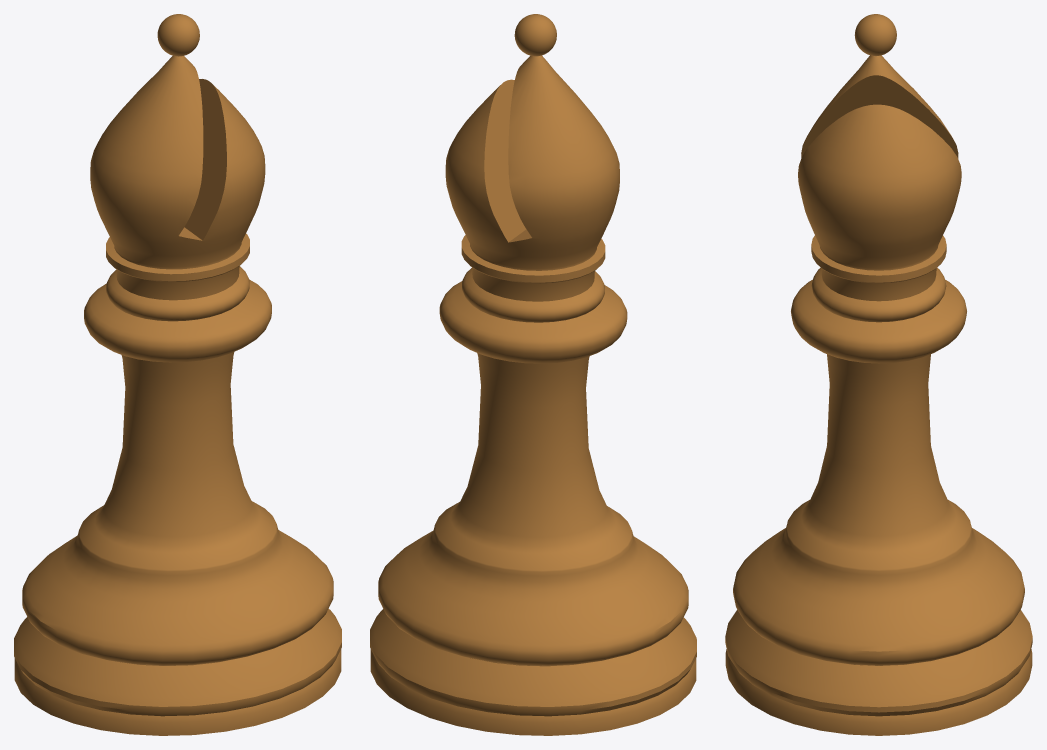
The model's file is gercek3_b_w.glb.
The picture shows the model from 3 angles, left to right: view 1: azimuth 30°, elevation 25°; view 2: azimuth 150°, elevation 25°; view 3: azimuth 270°, elevation 25°; orthographic projection.
Parts seen in each view (by area): view 1: Object_27; view 2: Object_27; view 3: Object_27.
Part boxes in pixels (<box>): Object_27: <box>14,14,341,735</box>; Object_27: <box>370,14,696,735</box>; Object_27: <box>725,14,1032,735</box>.
Bounding box in the file's own units: 1.36 × 2.93 × 1.26.
